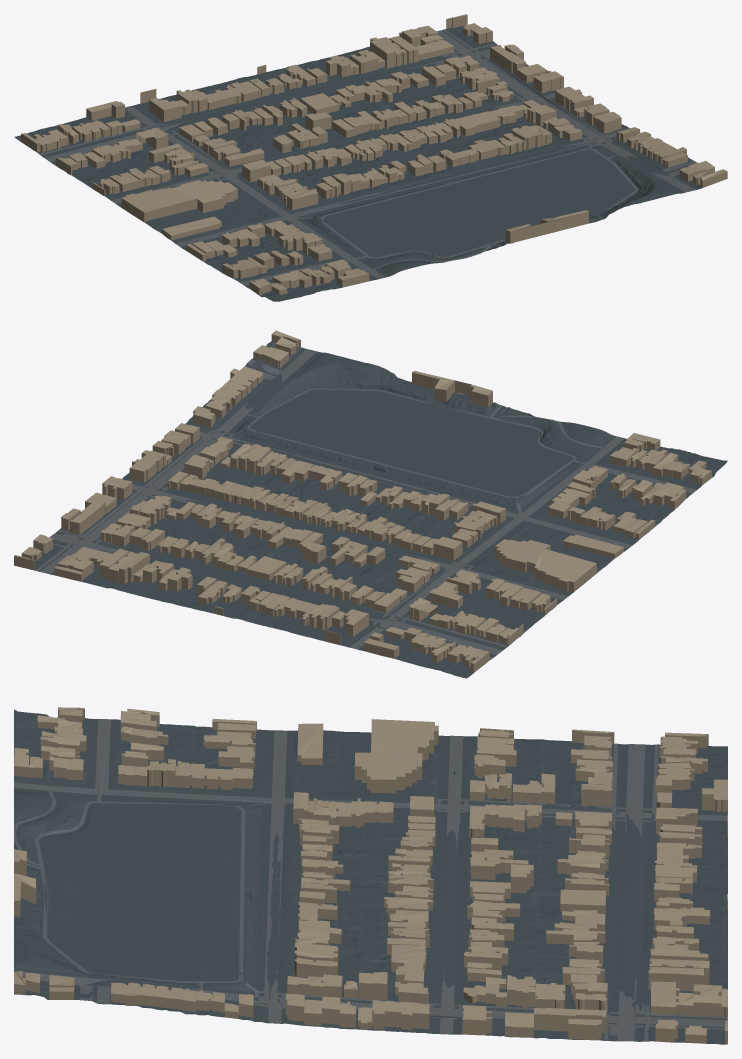
Rendered from epsg26910-1426-10870.lod0.glb.
3 renders of one model, top to bottom at view 1: azimuth 30°, elevation 25°; view 2: azimuth 150°, elevation 25°; view 3: azimuth 270°, elevation 25°, orthographic. The views are drawn at different scales.
Parts seen in each view (by area): view 1: epsg26910-1426-10870-lod0; view 2: epsg26910-1426-10870-lod0; view 3: epsg26910-1426-10870-lod0.
Part boxes in pixels (bbox=[...]): epsg26910-1426-10870-lod0: bbox=[14, 14, 727, 301]; epsg26910-1426-10870-lod0: bbox=[14, 330, 727, 678]; epsg26910-1426-10870-lod0: bbox=[14, 707, 727, 1044].
Size of the model in its own units: 384 by 37.81 by 384.
